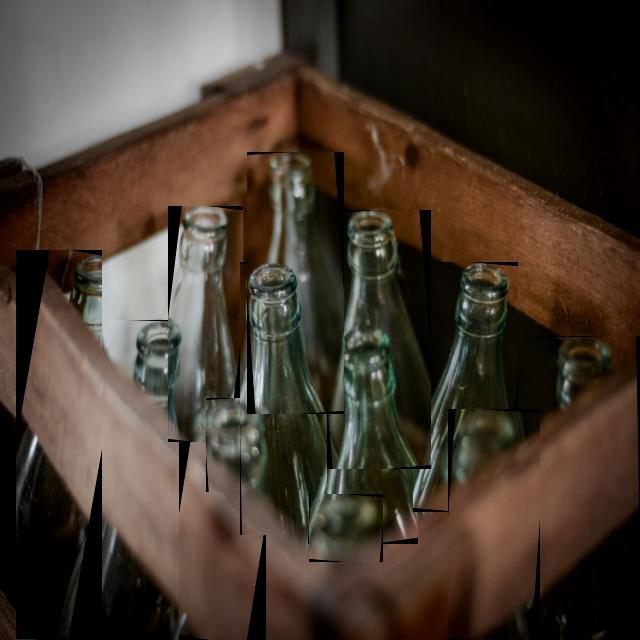Bottle: (412, 263, 516, 512), (239, 263, 326, 535), (309, 327, 417, 540), (344, 210, 429, 469), (269, 152, 343, 414), (167, 207, 242, 441), (15, 434, 100, 638), (537, 522, 639, 639), (91, 521, 178, 639), (206, 399, 265, 491), (206, 400, 265, 490), (308, 495, 382, 562), (447, 410, 508, 485)
